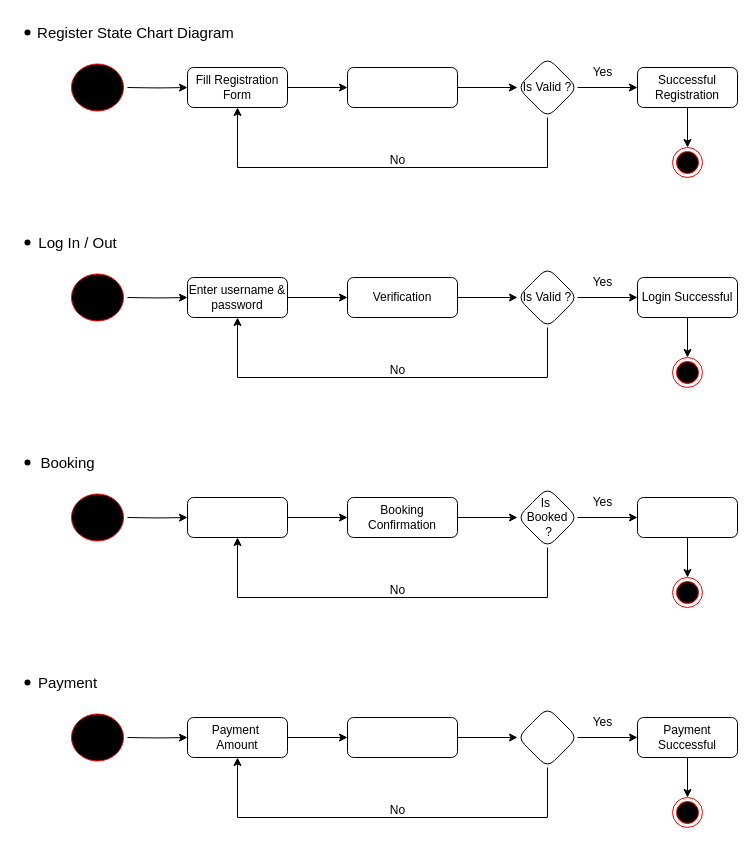
Image size: 755x845. Some labels were removed from this diagram. Each missing label, with the box of its shape:
Availability Check: (186, 496, 288, 538)
Booking Successful: (636, 496, 738, 538)
Is Approved ?: (516, 706, 578, 768)
Verfication: (346, 716, 458, 758)
Verification on Registration: (346, 66, 458, 108)
